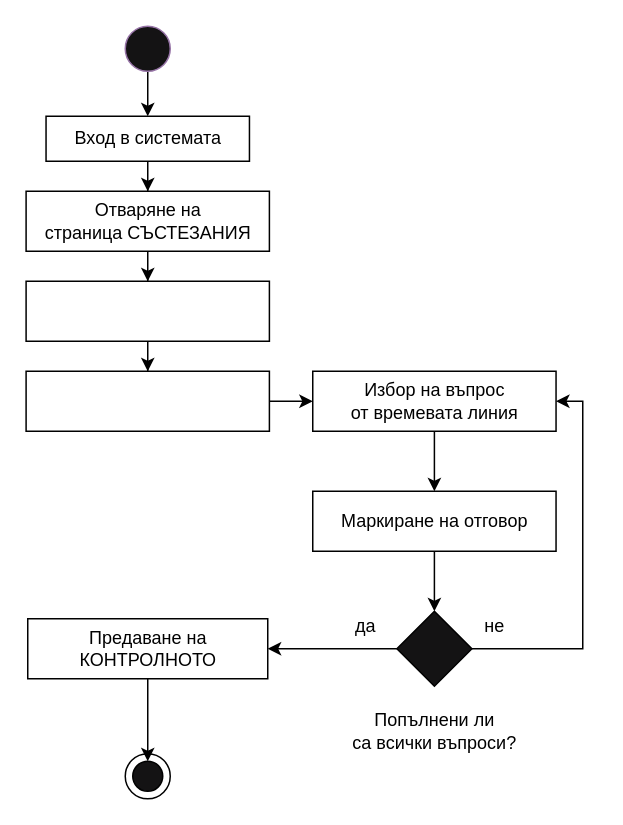
Image size: 623x825. Some labels were removed from this diagram. The shapes that lost their labels are listed below. From the top down, each one's box as (x1, y1, x2, y2) in pixels, then its label:
(25, 280, 269, 341): Избор на КОНТРОЛНО
(25, 370, 269, 431): Стартиране на КОНТРОЛНОТО
